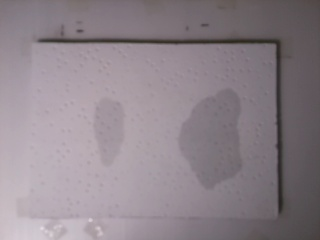Water_detected: (183, 105, 231, 171), (95, 102, 121, 159)
